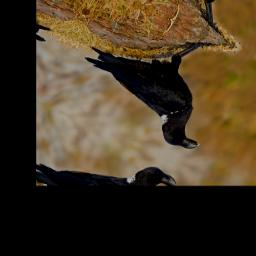Crow: (62, 2, 249, 155)
